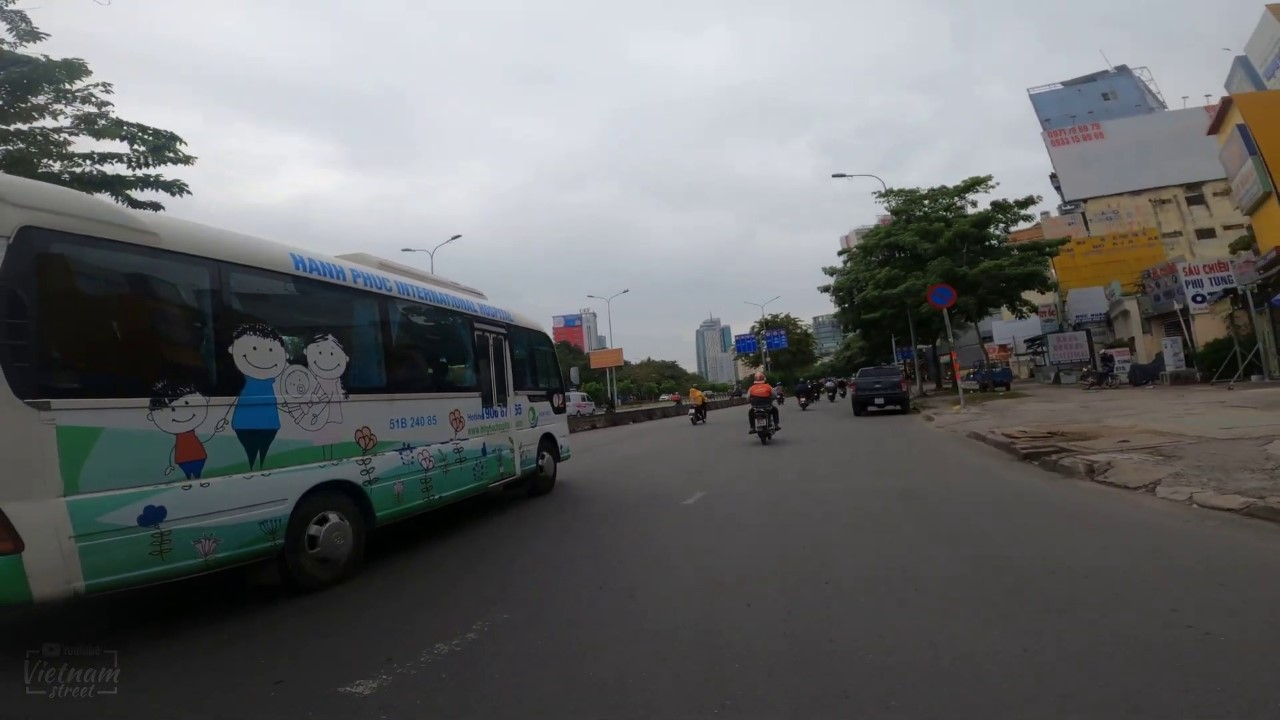cam_do_xe: (927, 284, 957, 309)
